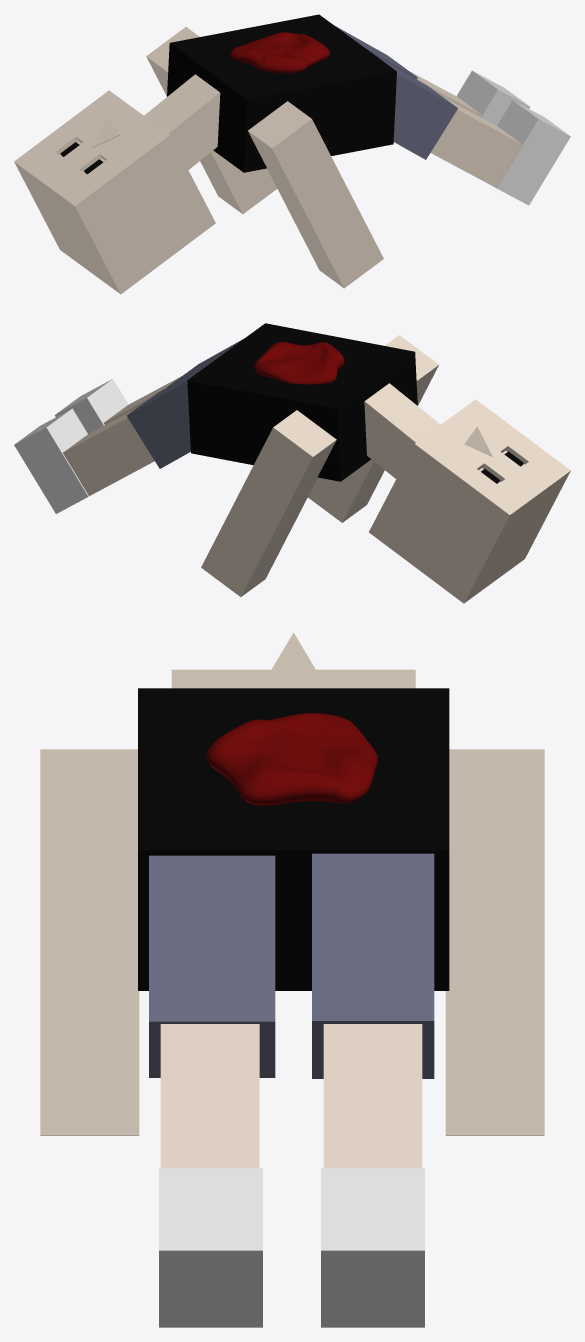
The model's file is CharacterImpaled.fbx.
The picture shows the model from 3 angles, top to bottom: view 1: azimuth 30°, elevation 25°; view 2: azimuth 150°, elevation 25°; view 3: azimuth 270°, elevation 25°; orthographic projection. The views are drawn at different scales.
Parts seen in each view (by area): view 1: pCube25, pCube7, pCube13, pCube26, pCube15, pCube29, pCube14, pSphere4, pCube30; view 2: pCube25, pCube7, pCube14, pCube26, pCube15, pCube30, pCube13, pSphere4; view 3: pCube26, pCube7, pCube13, pCube14, pCube29, pCube30, pSphere4, pCube25.
Part boxes in pixels (box(x1,y1,x2,y2)): pCube25: box(14, 90, 215, 294); pCube7: box(167, 14, 396, 172); pCube13: box(248, 101, 383, 288); pCube26: box(410, 70, 570, 205); pCube15: box(144, 74, 220, 169); pCube29: box(382, 60, 457, 159); pCube14: box(146, 27, 277, 213); pSphere4: box(230, 32, 329, 73); pCube30: box(335, 26, 417, 79); pCube25: box(369, 399, 570, 603); pCube7: box(187, 323, 417, 481); pCube14: box(201, 410, 336, 596); pCube26: box(14, 376, 181, 513); pCube15: box(364, 383, 440, 478); pCube30: box(126, 364, 208, 468); pCube13: box(308, 335, 438, 522); pSphere4: box(254, 341, 344, 384); pCube26: box(159, 1024, 424, 1327); pCube7: box(138, 688, 449, 990); pCube13: box(40, 749, 139, 1135); pCube14: box(445, 749, 544, 1135); pCube29: box(149, 855, 275, 1077); pCube30: box(312, 853, 434, 1078); pSphere4: box(206, 713, 377, 805); pCube25: box(171, 632, 415, 688).
Size of the model in its own units: 4.67 by 1.79 by 2.07.
